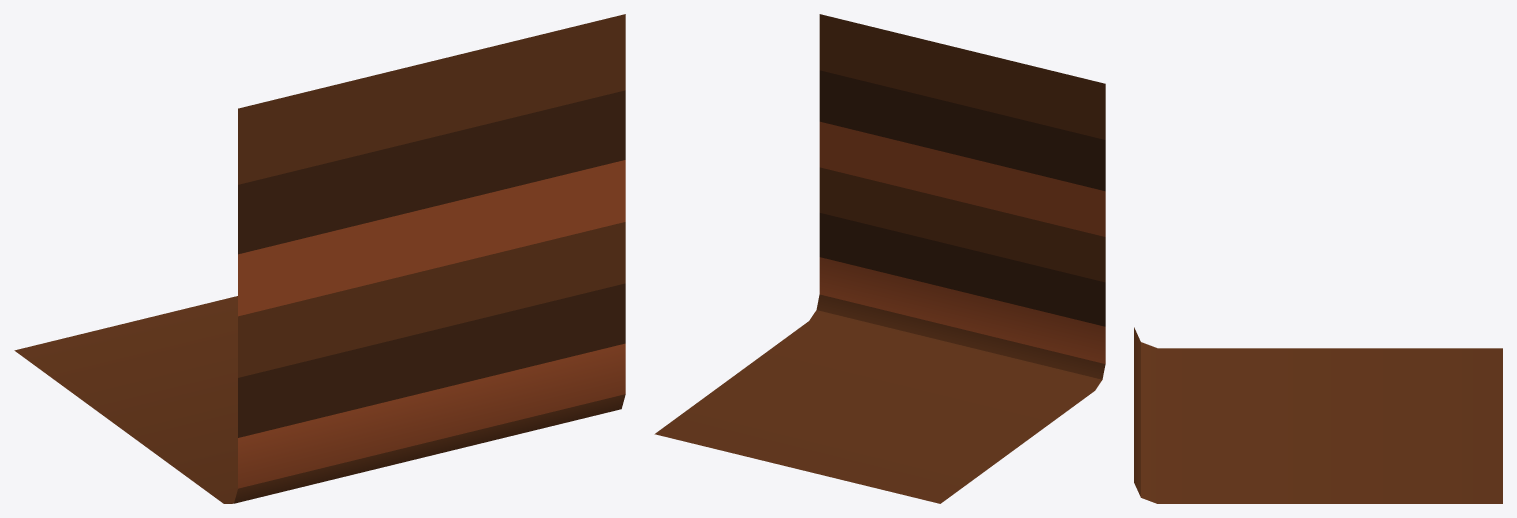
Rendered from Cube_Grass_SideBottom_Tall.fbx.
3 views of the same model, side by side, from view 1: azimuth 30°, elevation 25°; view 2: azimuth 150°, elevation 25°; view 3: azimuth 270°, elevation 25° (orthographic). The views are drawn at different scales.
Visible parts, largest first — view 1: Cube_Grass_SideBottom_Tall; view 2: Cube_Grass_SideBottom_Tall; view 3: Cube_Grass_SideBottom_Tall.
Boxes of the visible parts, <box> form: Cube_Grass_SideBottom_Tall: <box>14,14,625,503</box>; Cube_Grass_SideBottom_Tall: <box>654,14,1105,503</box>; Cube_Grass_SideBottom_Tall: <box>1134,327,1502,503</box>.
Bounding box in the file's own units: 200 × 200 × 200.
